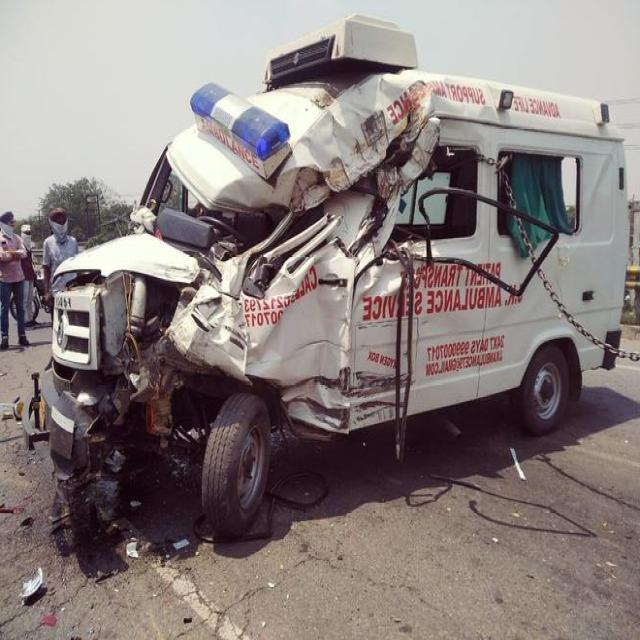accident: (41, 15, 626, 536)
